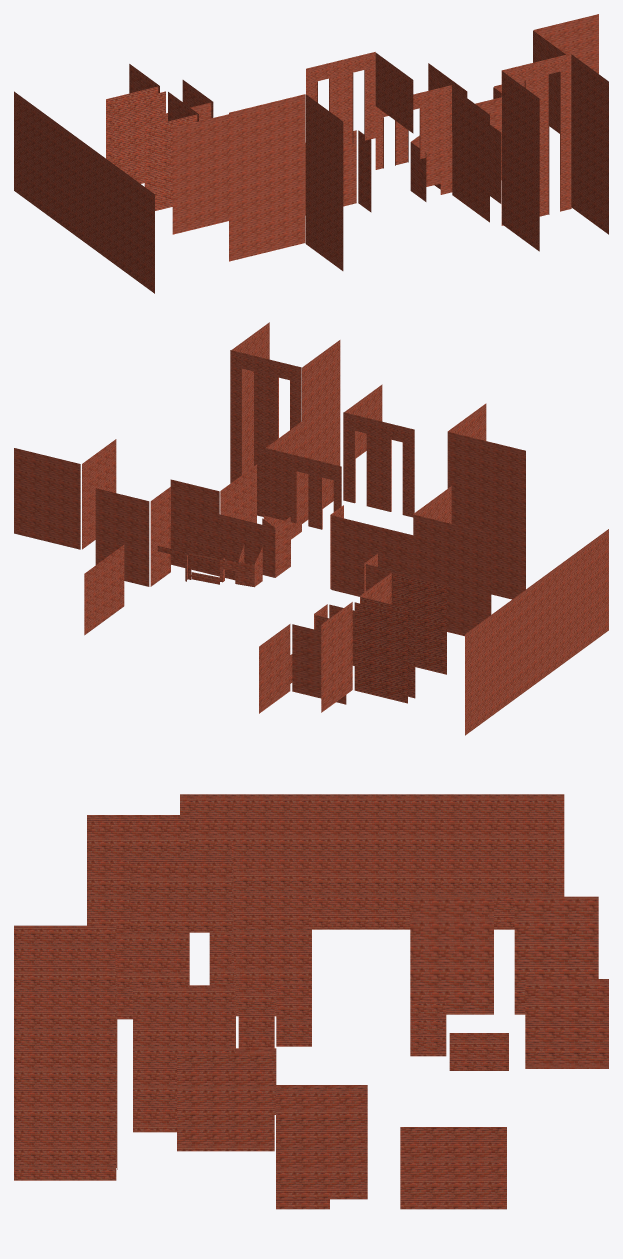
The model's file is SM_Brick_01.fbx.
The picture shows the model from 3 angles, top to bottom: view 1: azimuth 30°, elevation 25°; view 2: azimuth 150°, elevation 25°; view 3: azimuth 270°, elevation 25°; orthographic projection. The views are drawn at different scales.
Parts seen in each view (by area): view 1: SM_Brick_01; view 2: SM_Brick_01; view 3: SM_Brick_01.
Part boxes in pixels (x1,y1,x2,y2): SM_Brick_01: (14,14,608,293); SM_Brick_01: (14,322,608,735); SM_Brick_01: (14,794,608,1209).
Bounding box in the file's own units: 20845 × 7082 × 15367.
